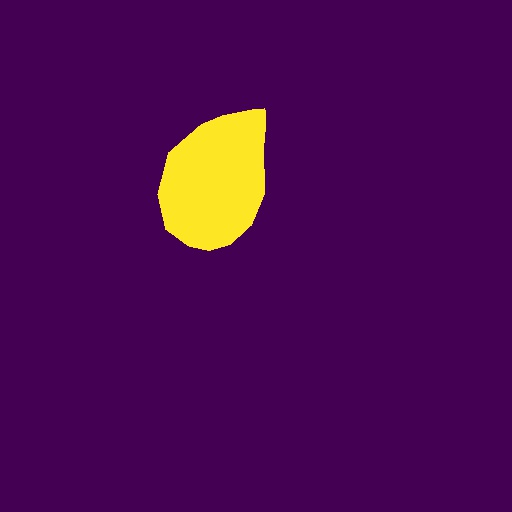Gliomia_tumour: (157, 108, 266, 251)
